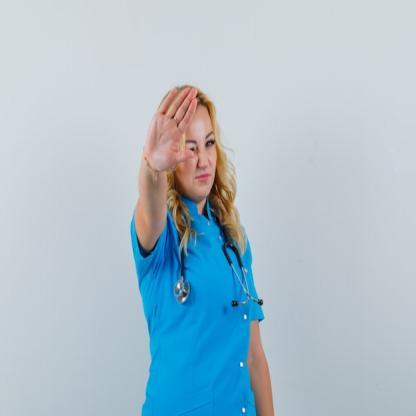stop: (142, 78, 198, 172)
